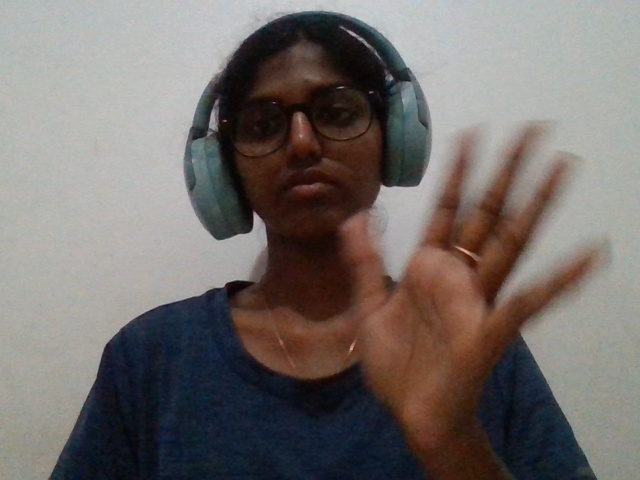Bye: (304, 95, 638, 480)
